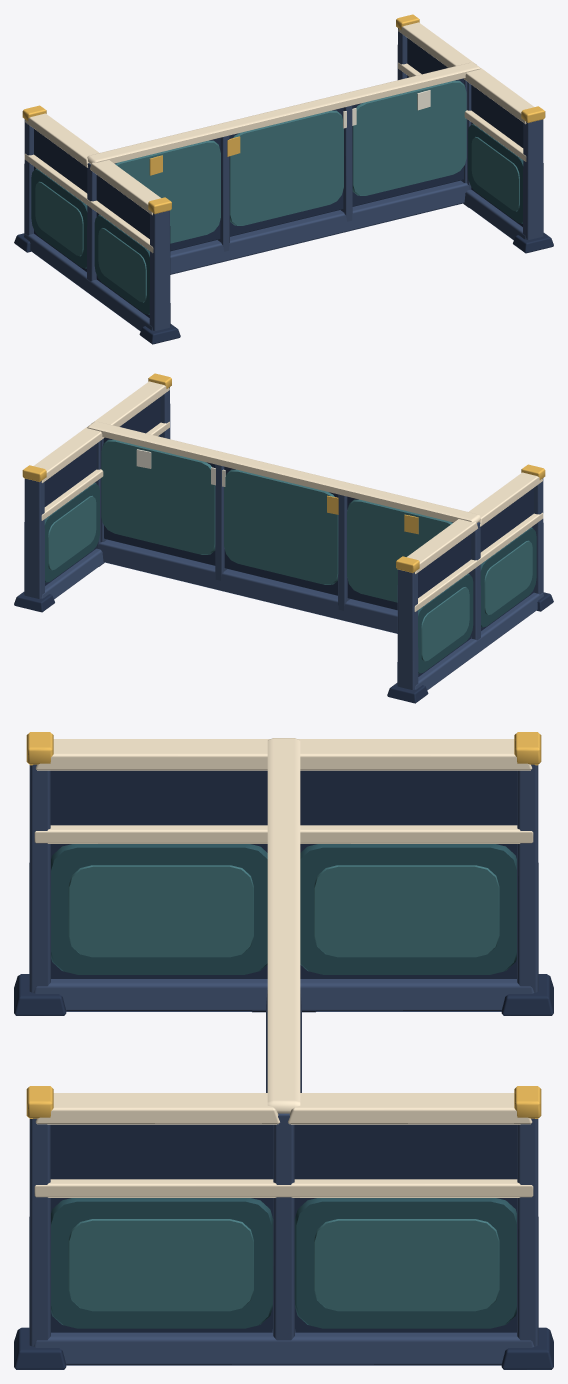
Rendered from partition.glb.
3 views of the same model, one above another, from view 1: azimuth 30°, elevation 25°; view 2: azimuth 150°, elevation 25°; view 3: azimuth 270°, elevation 25° (orthographic). The views are drawn at different scales.
Visible parts, largest first — view 1: partition; view 2: partition; view 3: partition.
Boxes of the visible parts, x1,y1,x2,y2 form: partition: [14, 14, 553, 344]; partition: [14, 373, 553, 703]; partition: [14, 732, 553, 1369].
Size of the model in its own units: 5.37 by 1.73 by 3.21.
